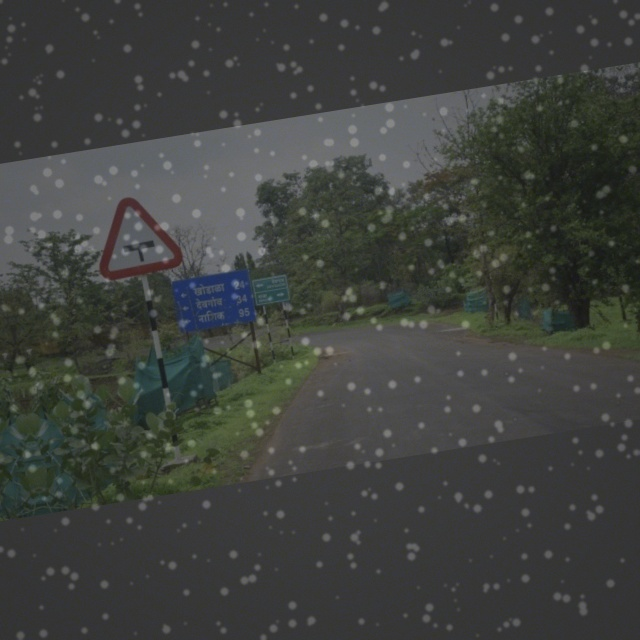T_Intersection: (81, 179, 194, 288)
